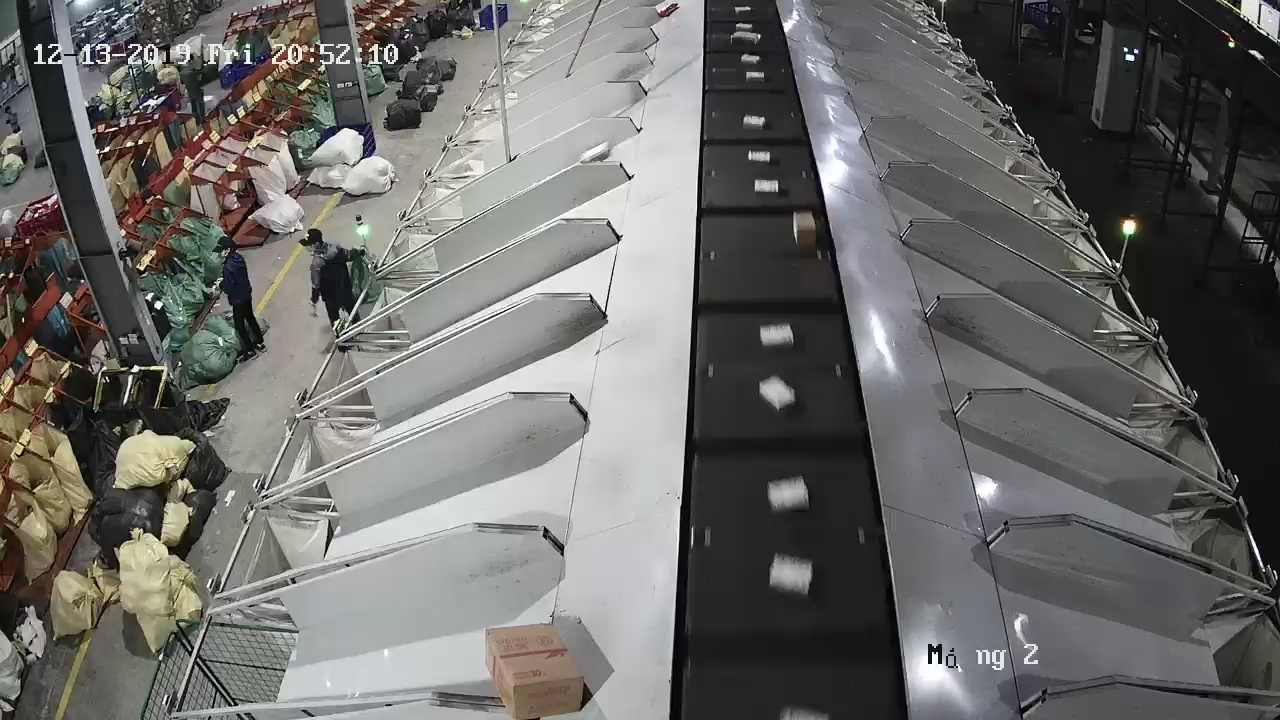parcel: (578, 139, 610, 162)
